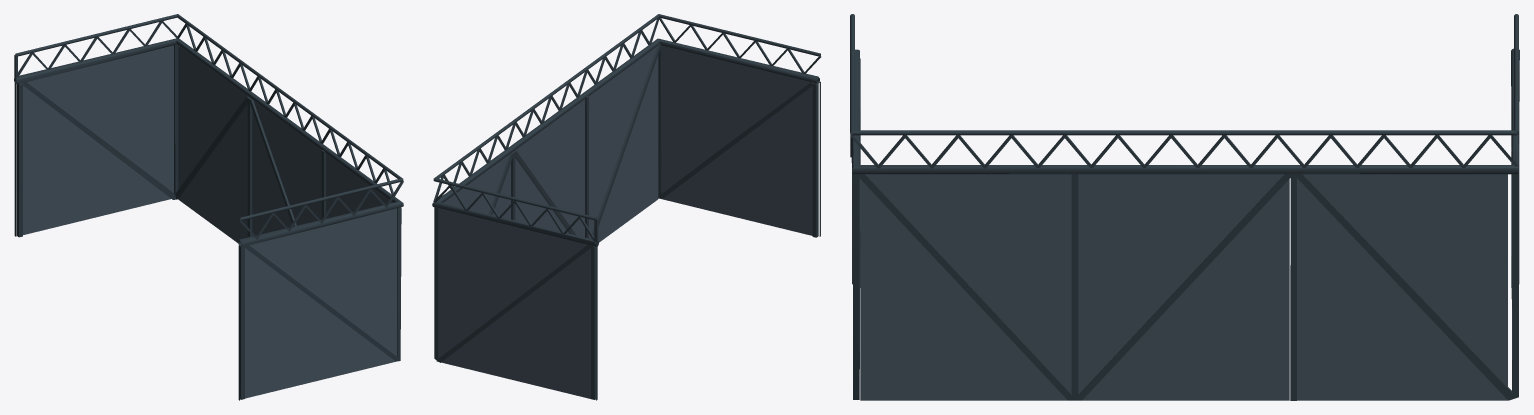
Rendered from Holder.fbx.
The picture shows the model from 3 angles, left to right: view 1: azimuth 30°, elevation 25°; view 2: azimuth 150°, elevation 25°; view 3: azimuth 270°, elevation 25°; orthographic projection. The views are drawn at different scales.
Parts seen in each view (by area): view 1: Cube.001; view 2: Cube.001; view 3: Cube.001.
Boxes of the visible parts, <box> form: Cube.001: <box>14,14,403,400</box>; Cube.001: <box>432,14,821,400</box>; Cube.001: <box>850,14,1519,400</box>.
Bounding box in the file's own units: 10.28 × 4.32 × 4.59.
